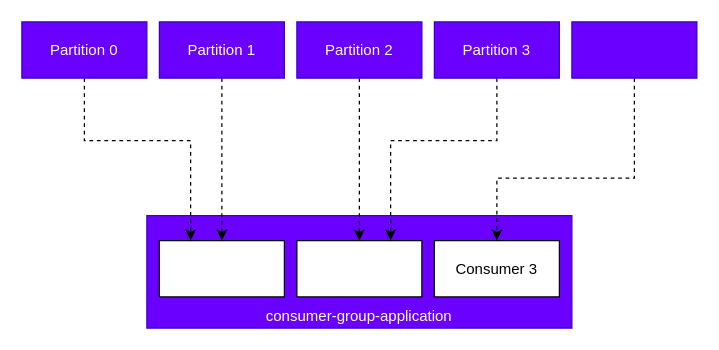
Image size: 719x350. Some labels were removed from this diagram. The shapes that lost their labels are listed below. From the top down, each one's box as (x1, y1, x2, y2) in pixels, then its label:
(571, 21, 697, 78): Partition 4
(158, 239, 284, 297): Consumer 1
(296, 239, 422, 297): Consumer 2
